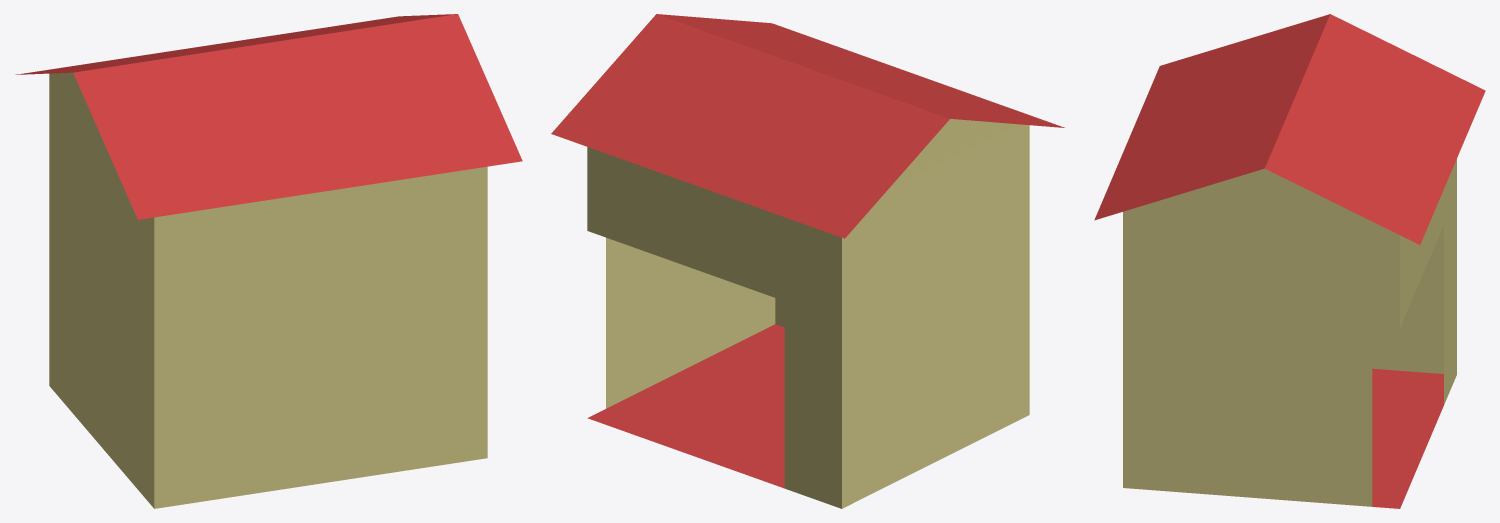
3 renders of one model, left to right at view 1: azimuth 30°, elevation 25°; view 2: azimuth 150°, elevation 25°; view 3: azimuth 270°, elevation 25°, orthographic. The views are drawn at different scales.
Bounding box in the file's own units: 12.78 × 11.8 × 11.33.
